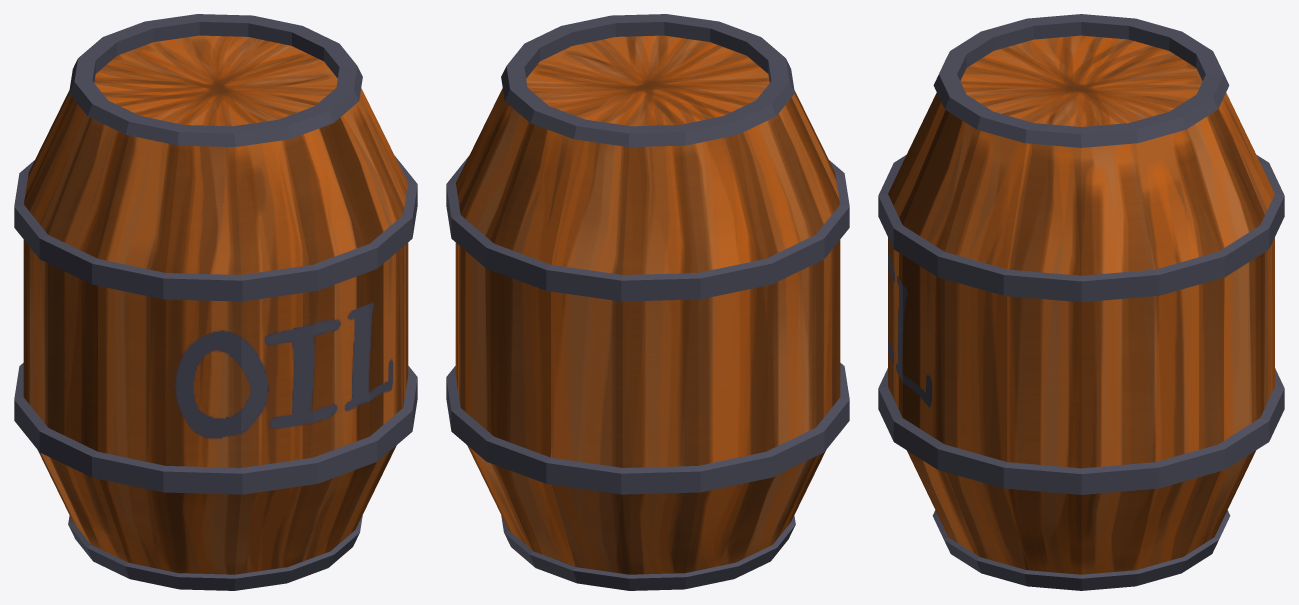
File: Barrel.fbx
The picture shows the model from 3 angles, left to right: view 1: azimuth 30°, elevation 25°; view 2: azimuth 150°, elevation 25°; view 3: azimuth 270°, elevation 25°; orthographic projection.
Visible parts, largest first — view 1: Barrel; view 2: Barrel; view 3: Barrel.
Part boxes in pixels (x1,y1,x2,y2): Barrel: (14,14,417,590); Barrel: (446,14,849,590); Barrel: (878,14,1284,590).
Bounding box in the file's own units: 59.85 × 74.26 × 59.85.
